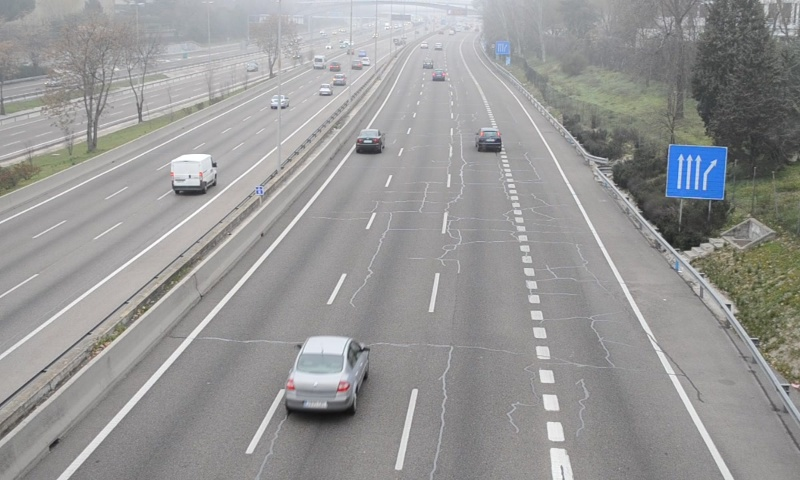car: (286, 336, 370, 412), (355, 128, 384, 152), (476, 126, 502, 151)
